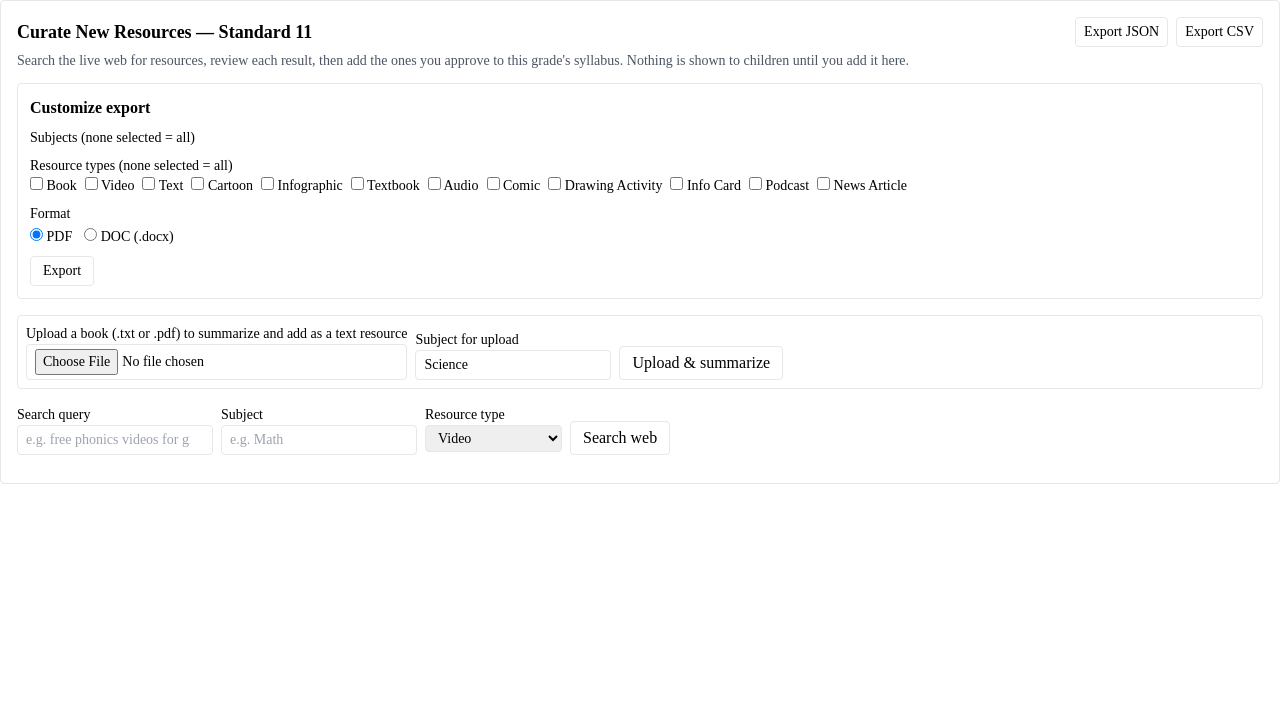
Test case: ParentCuration book upload topic linking › does not show topic-linking text when nothing matched
Earlier steps of the test are not shown.
What coordinates should you click on to do the following:
click the button "Upload & summarize"
I would click on:
 (701, 363)
Its box is x1=619 y1=346 x2=783 y2=380.
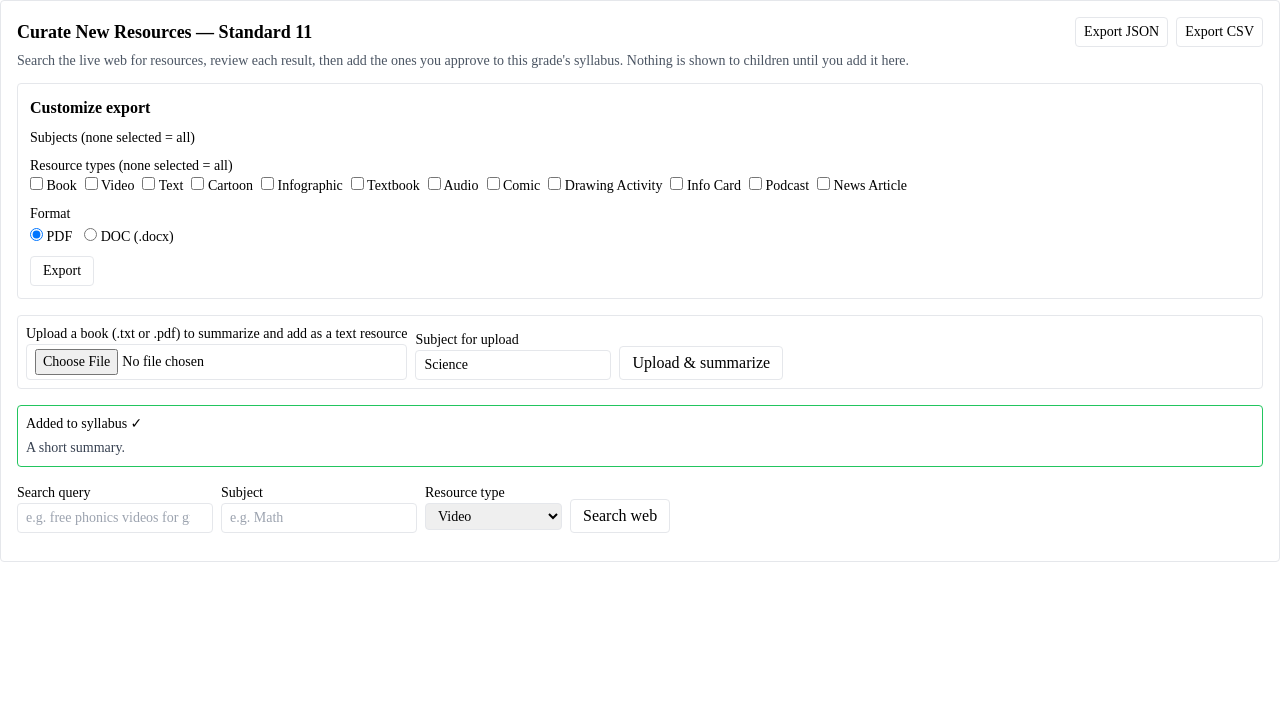
Expected: the text "Added to syllabus ✓" is shown, x1=26 y1=416 x2=142 y2=431
